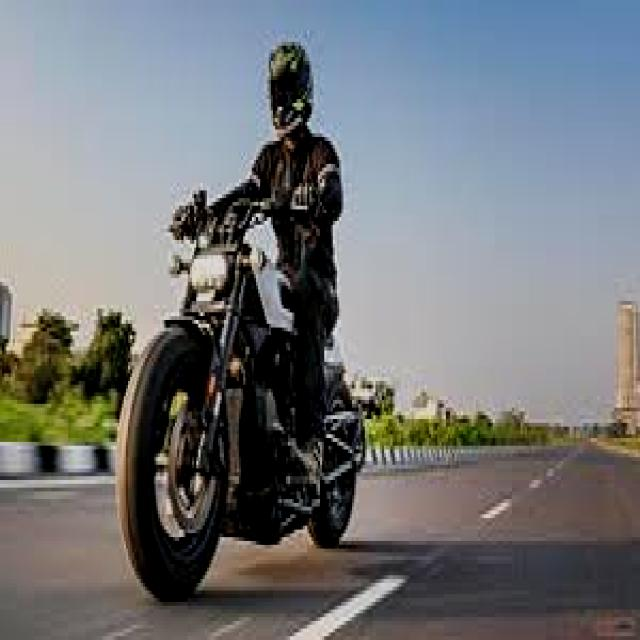MOTORCYCLE: (125, 240, 368, 600)
